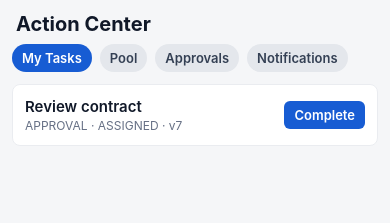
Test case: R2-I Action Center › 403 surfaces the authorization-revoked message and never retries the mutation
Step 1. Click the button with test id "task-complete-wi-1" → (325, 115), box [284,101,365,129]
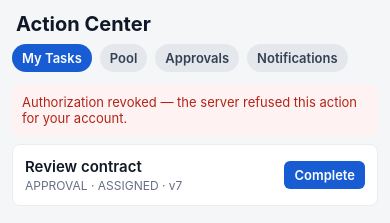
Check: the text "Authorization revoked — the server refused this action for your account." is shown, box [12,84,378,136]
